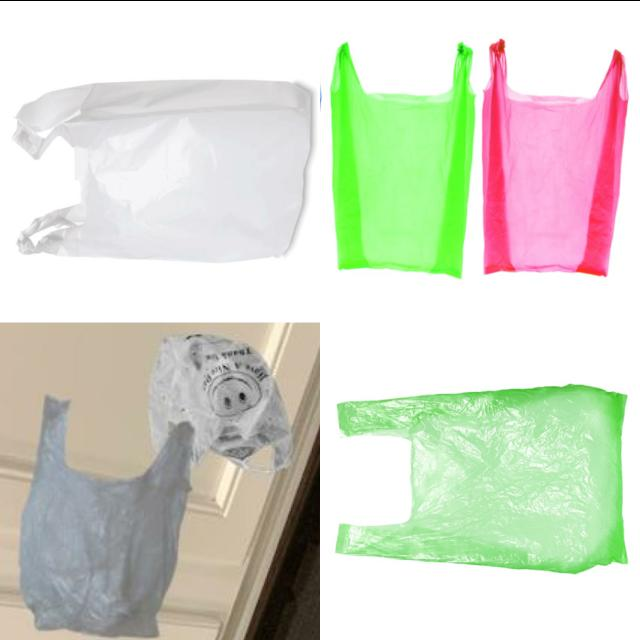plastik: (336, 383, 627, 572), (14, 80, 310, 261), (19, 395, 193, 636), (483, 40, 627, 275), (330, 42, 474, 276), (149, 333, 289, 467)
